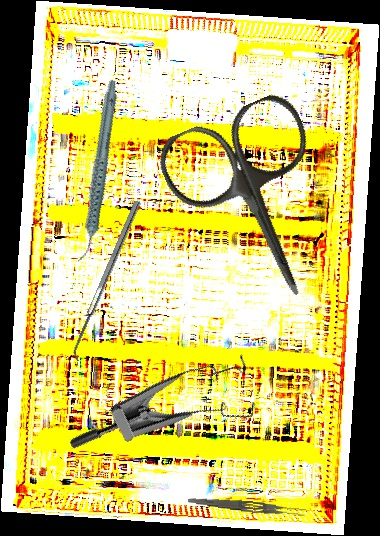Dressing Forceps: (187, 495, 307, 519)
Handpiece: (40, 77, 154, 265)
Iris Scissors: (150, 87, 364, 325)
Spatula Surgical: (68, 200, 147, 362)
Speculum: (66, 324, 276, 516)
